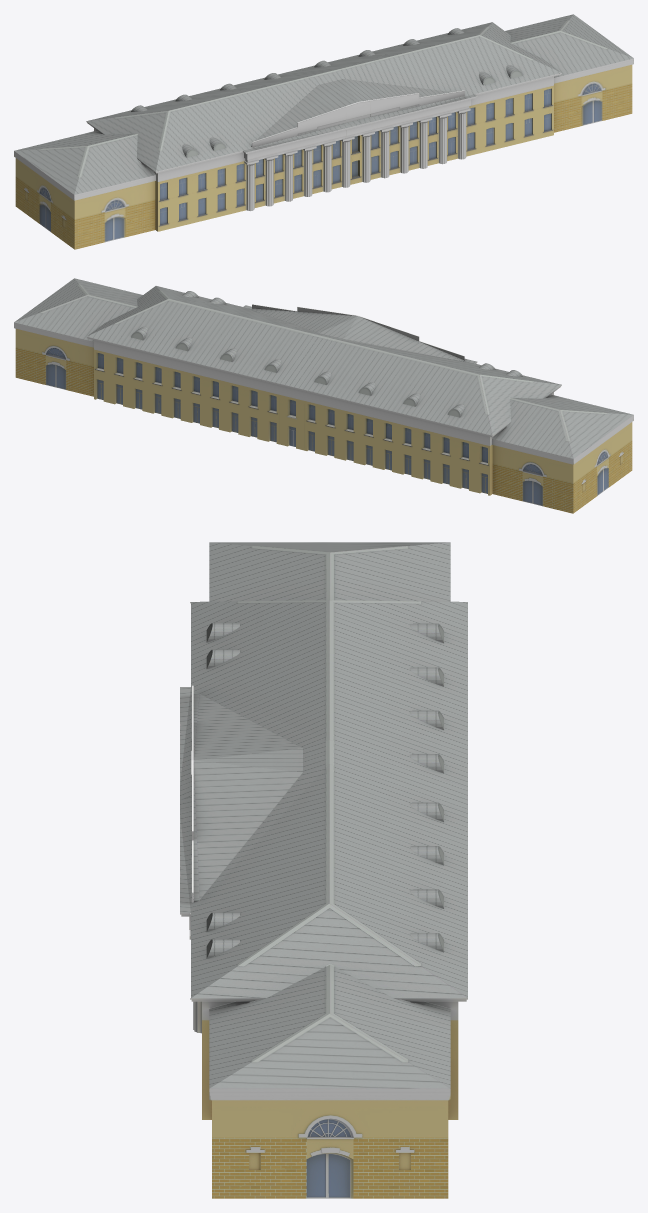
Rendered from EkaterinoslavskayaSukonnayaFabric.glb.
3 views of the same model, one above another, from view 1: azimuth 30°, elevation 25°; view 2: azimuth 150°, elevation 25°; view 3: azimuth 270°, elevation 25° (orthographic). The views are drawn at different scales.
Visible parts, largest first — view 1: Untitled; view 2: Untitled; view 3: Untitled.
Boxes of the visible parts, <box> form: Untitled: <box>14,14,633,249</box>; Untitled: <box>14,278,633,513</box>; Untitled: <box>180,542,467,1198</box>.
Bounding box in the file's own units: 130 × 19.4 × 29.02.
3 materials, 3 textured.
